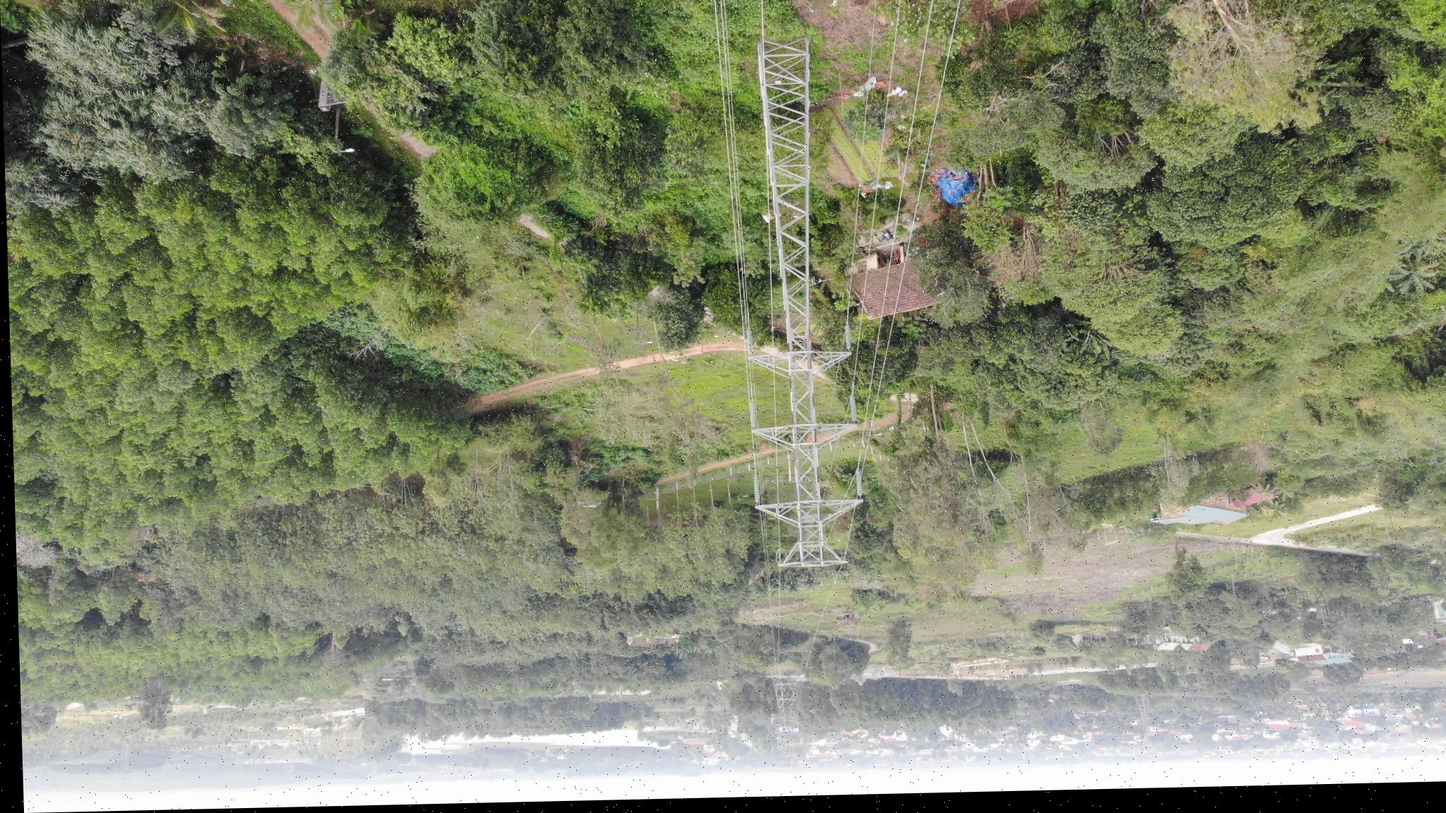tower: (736, 17, 868, 591)
